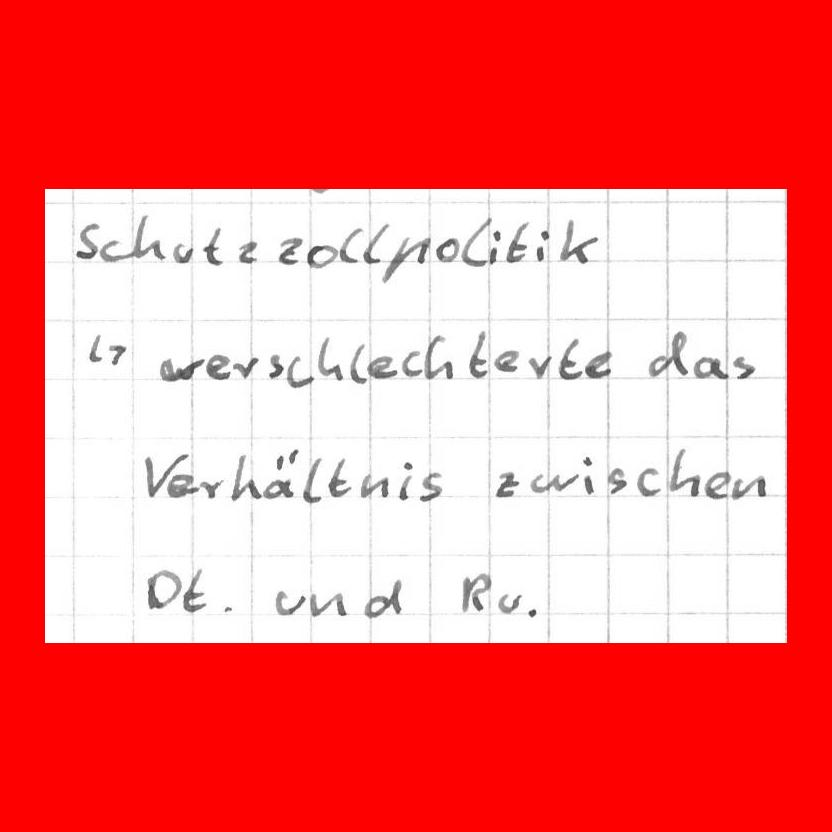Char: (377, 232, 431, 287), (645, 327, 691, 381), (557, 216, 601, 269), (142, 445, 184, 499), (666, 444, 704, 499), (260, 448, 300, 498), (82, 329, 131, 369), (227, 449, 263, 502), (130, 210, 166, 262), (360, 576, 404, 618), (143, 566, 183, 611), (422, 331, 456, 381), (464, 213, 493, 270), (178, 567, 211, 617), (156, 351, 205, 384), (463, 326, 492, 380), (459, 571, 493, 615), (361, 219, 390, 267), (308, 588, 351, 620), (689, 351, 730, 383), (300, 455, 326, 505), (316, 334, 343, 382), (505, 219, 532, 266), (417, 467, 450, 505), (529, 467, 579, 492), (731, 471, 770, 503), (633, 461, 664, 501), (326, 454, 354, 498), (72, 218, 100, 261), (701, 467, 732, 502), (201, 222, 225, 267), (274, 585, 306, 618), (582, 348, 616, 379), (347, 339, 369, 386), (492, 469, 524, 501), (362, 351, 397, 380), (358, 471, 392, 500), (277, 232, 304, 268), (560, 335, 582, 379), (604, 462, 630, 499), (286, 353, 314, 387), (164, 472, 198, 500), (193, 472, 227, 500), (579, 450, 598, 499), (205, 349, 234, 381), (306, 241, 339, 269), (228, 353, 262, 380), (338, 226, 362, 264), (215, 592, 240, 628), (491, 345, 522, 373), (98, 235, 129, 262), (435, 234, 462, 265), (397, 459, 415, 505), (236, 237, 263, 267), (527, 351, 554, 380), (733, 350, 757, 382), (496, 590, 523, 617), (265, 351, 287, 383), (169, 238, 195, 263), (401, 349, 422, 378), (534, 227, 550, 265), (486, 228, 502, 265), (523, 601, 543, 621)
